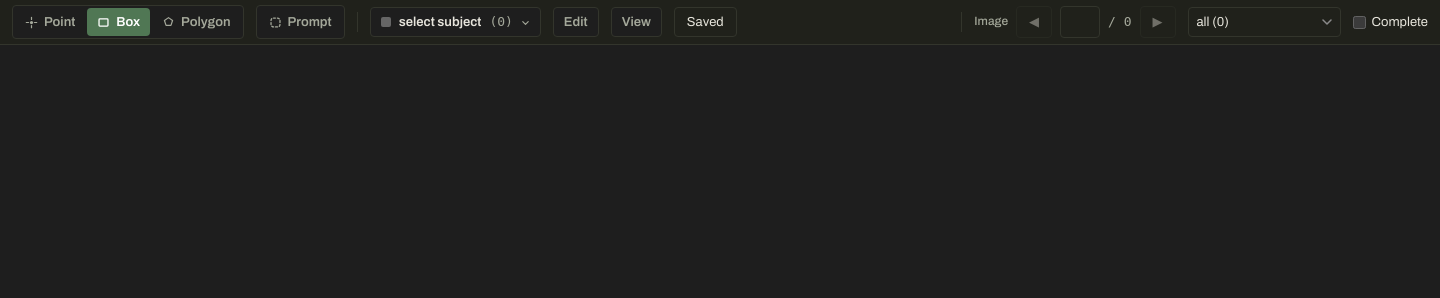
Test: AnnotateToolbar subject menu attributes › holds the active subject's attributes under the subject list, absent with no subject
What coordinates should you click on to do the following:
click the button "select subject (0)"
I would click on:
 (455, 22)
Its box is [370, 7, 541, 37].
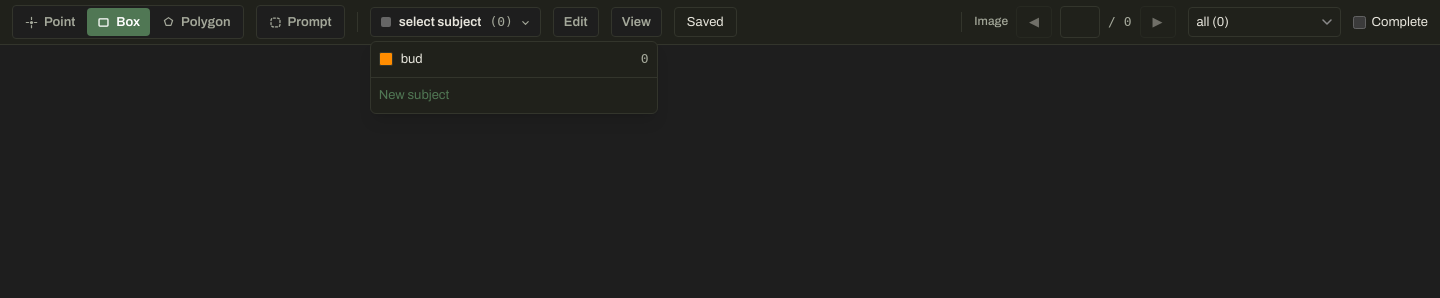
What coordinates should you click on to do the following:
click the button "bud 0"
I would click on:
 (525, 59)
Its box is [401, 46, 649, 73].
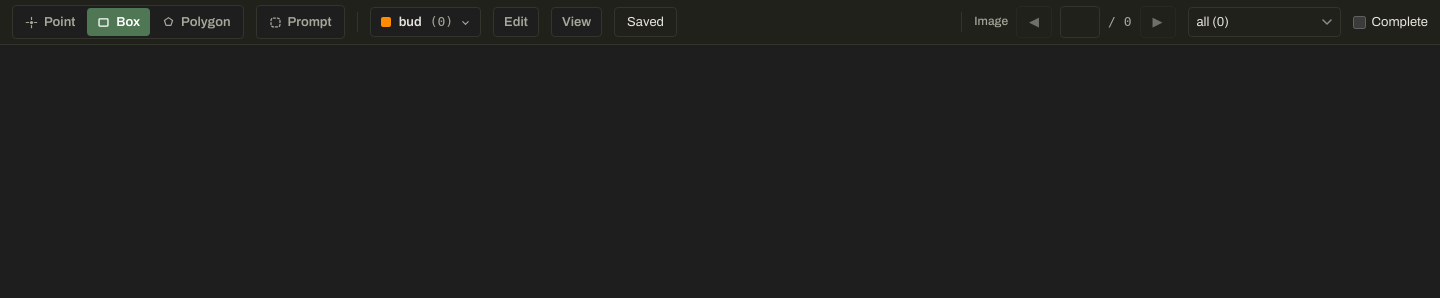
What coordinates should you click on to do the following:
click the button "bud (0)"
I would click on:
 (425, 22)
Its box is [370, 7, 481, 37].
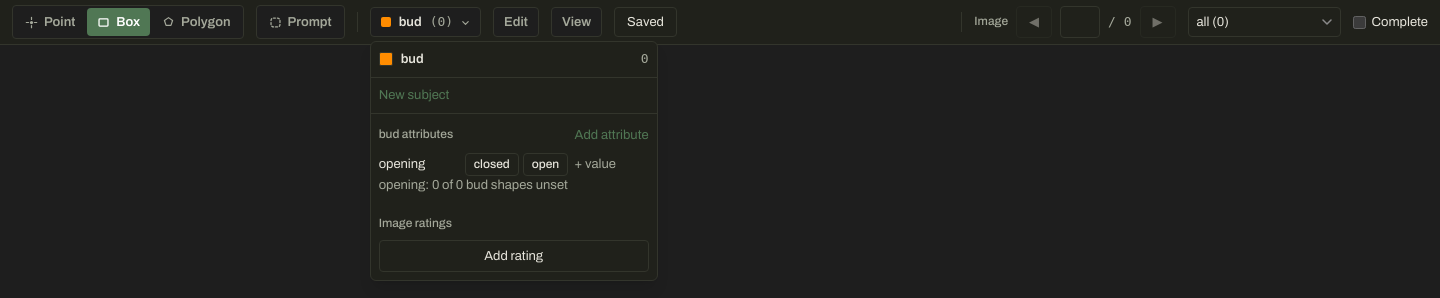
Check: the element with test id "subject-attributes" is shown, box [371, 113, 657, 276]
Check: the button "Add attribute" is shown, box [575, 126, 649, 144]
